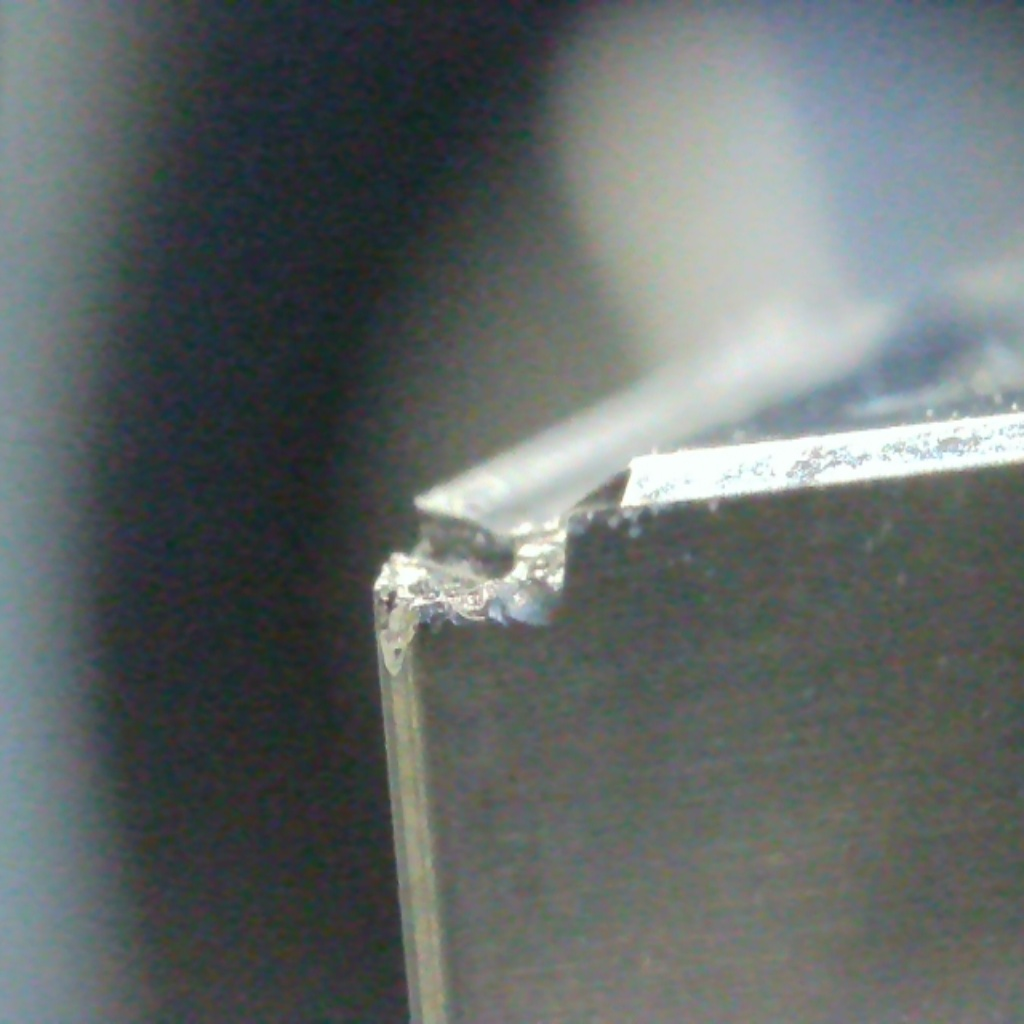flank_wear: (370, 572, 577, 680)
